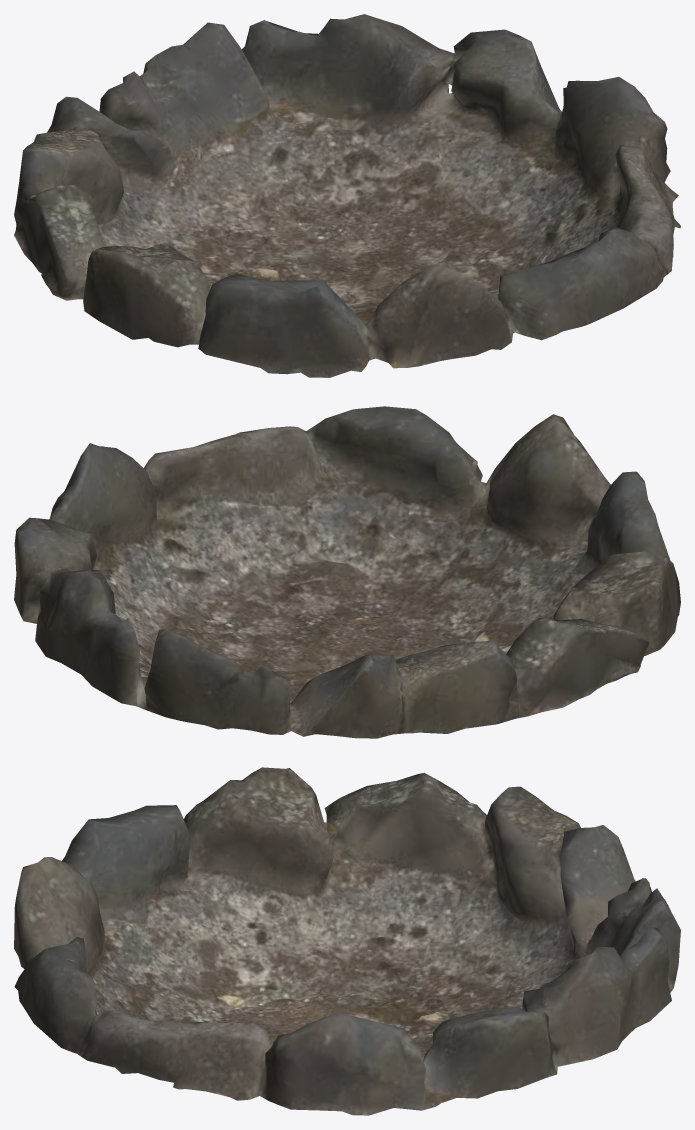
Rendered from stone_fire_pit.glb.
3 views of the same model, one above another, from view 1: azimuth 30°, elevation 25°; view 2: azimuth 150°, elevation 25°; view 3: azimuth 270°, elevation 25° (orthographic).
Visible parts, largest first — view 1: stone_fire_pit; view 2: stone_fire_pit; view 3: stone_fire_pit.
Boxes of the visible parts, box(x1,y1,x2,y2) form: stone_fire_pit: box(14, 14, 680, 377); stone_fire_pit: box(14, 406, 680, 738); stone_fire_pit: box(14, 767, 680, 1115).
Bounding box in the file's own units: 1.45 × 0.3883 × 1.43.
1 material, 1 textured.
